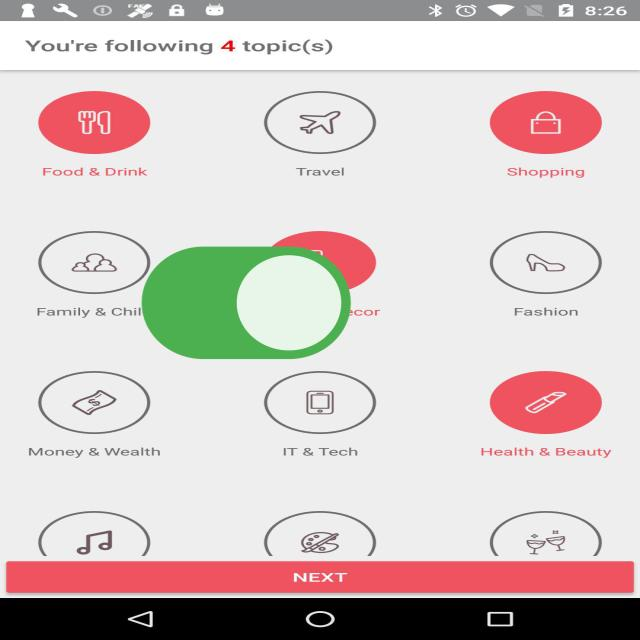social proof: (132, 203, 360, 411)
